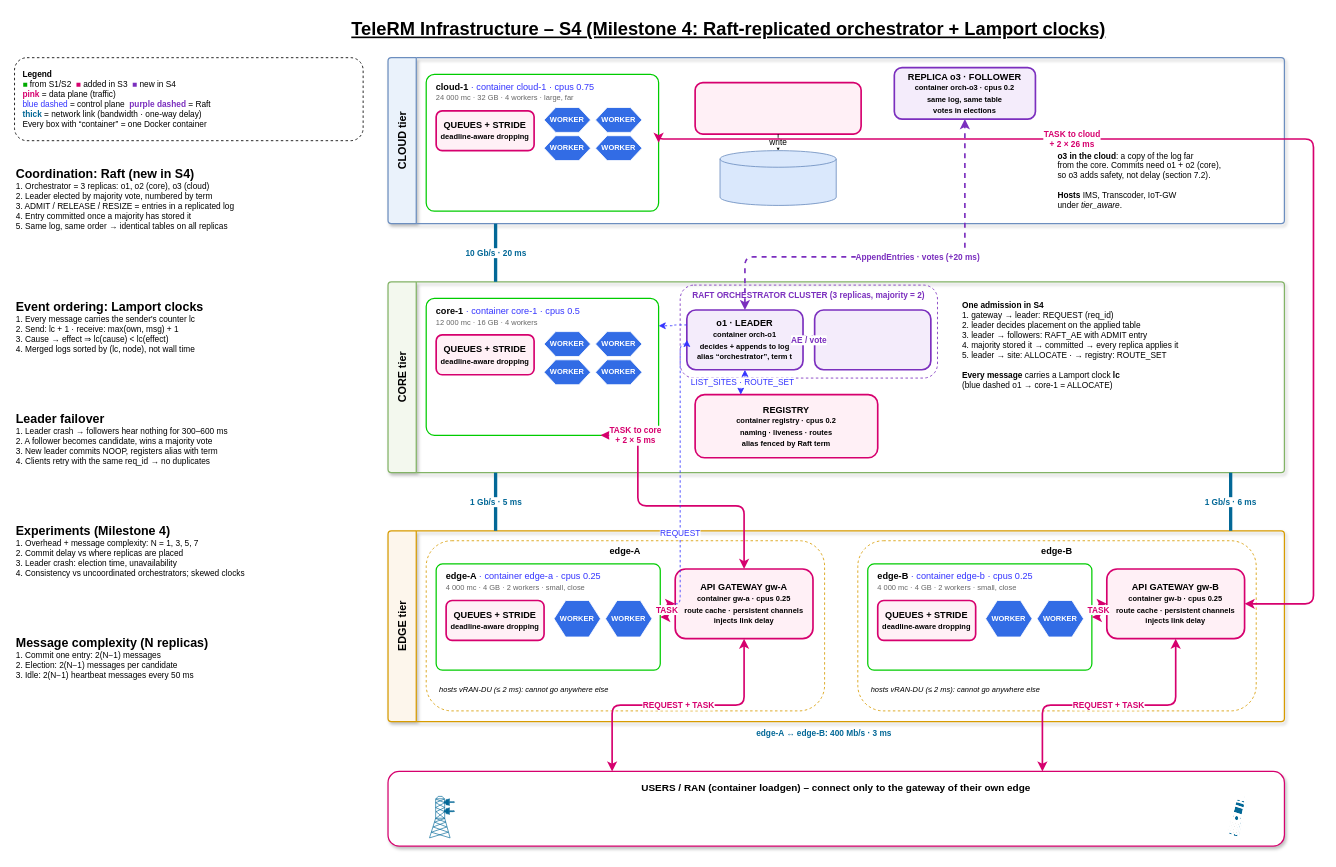
Some shapes in this 1336 by 867 pixel diagram are drawn without their labels. The shapes that lost their labels are listed below. From the top down, each one's centre as x and y in pixels, then its label:
pixel 778 107: TELEMETRY container telemetry · cpus 0.2 REPORT from every node, 1 s
pixel 777 177: telemetry.jsonl runs.csv · tasks.csv
pixel 872 339: o2 · FOLLOWER container orch-o2 copy of log + table votes in elections
